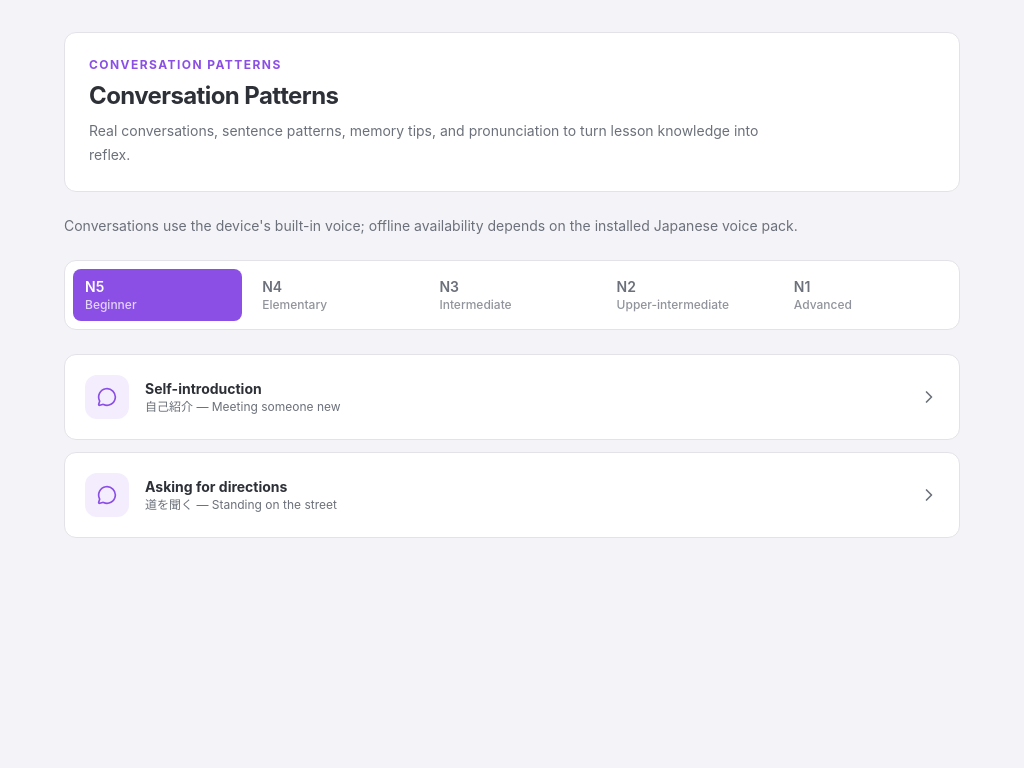
Test: Conversations Page › expand/collapse › sets aria-expanded on the toggle button
This screenshot has width=1024, height=768.
Click the button "Self-introduction 自己紹介 — Meeting someone new" at (107, 397), box [65,355,959,439]
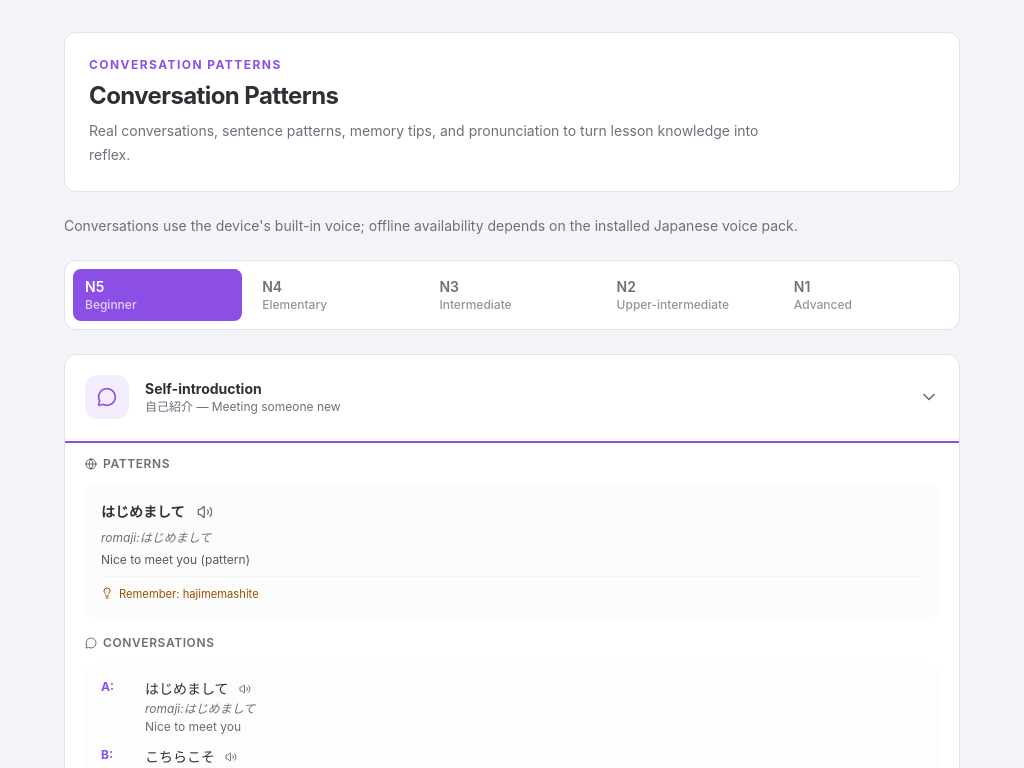
Result: the button "Self-introduction 自己紹介 — Meeting someone new" is expanded at [65,355,959,439]
